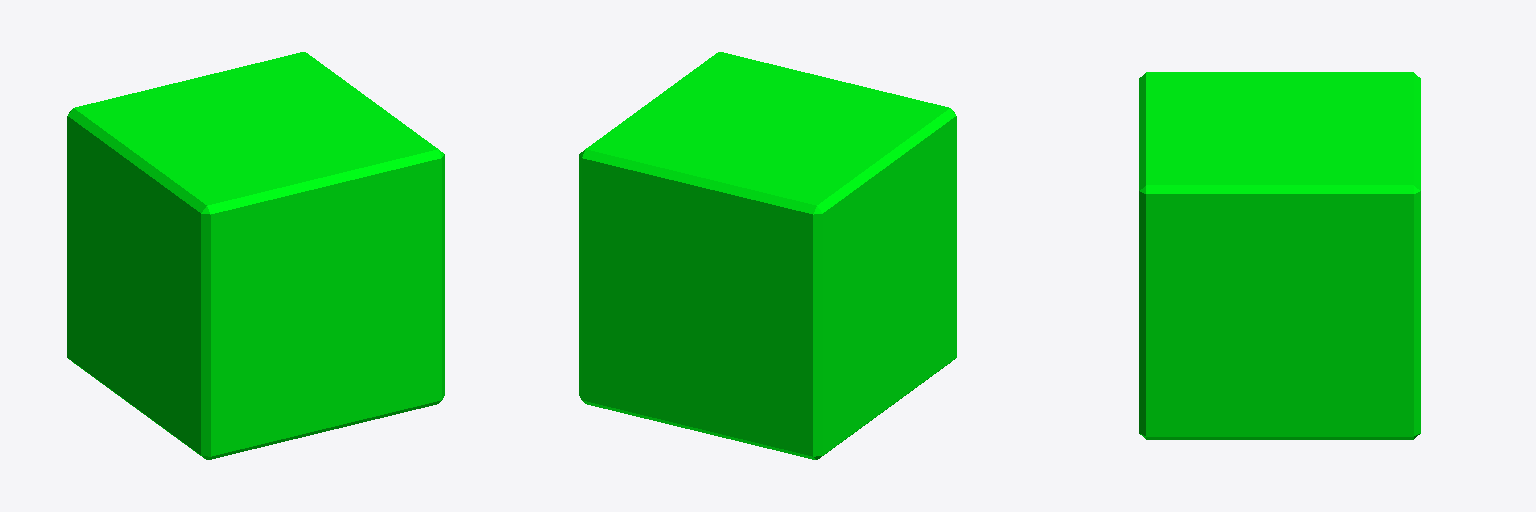
3 views of the same model, side by side, from view 1: azimuth 30°, elevation 25°; view 2: azimuth 150°, elevation 25°; view 3: azimuth 270°, elevation 25° (orthographic).
Parts seen in each view (by area): view 1: pCube1; view 2: pCube1; view 3: pCube1.
Part boxes in pixels (bbox=[...]): pCube1: bbox=[67, 52, 444, 459]; pCube1: bbox=[579, 52, 956, 459]; pCube1: bbox=[1139, 72, 1420, 439].
Bounding box in the file's own units: 2 × 2 × 2.
1 materials, 1 textured.